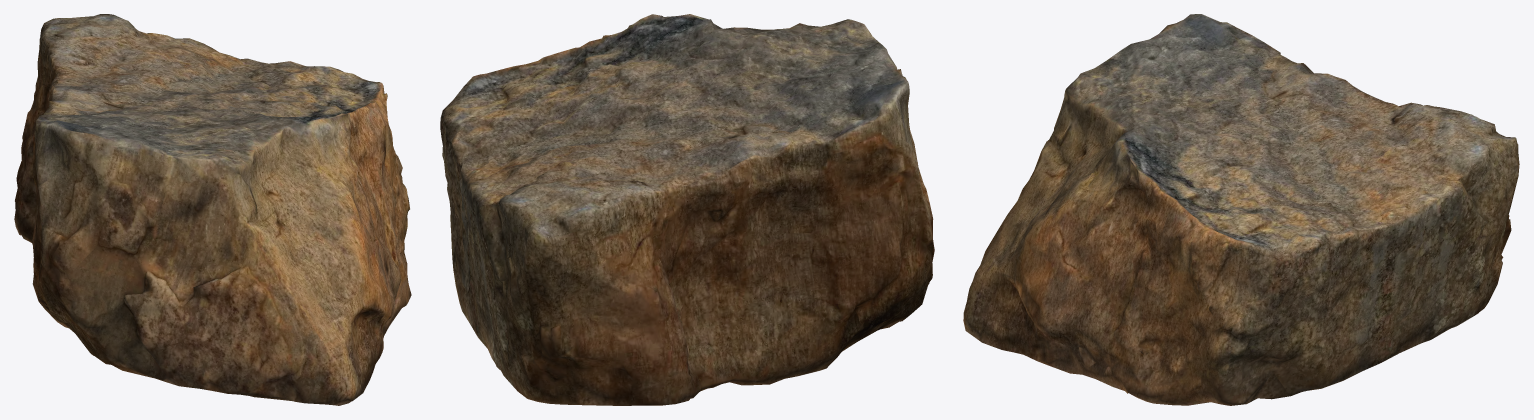
File: namaqualand_boulder_03.glb
3 views of the same model, side by side, from view 1: azimuth 30°, elevation 25°; view 2: azimuth 150°, elevation 25°; view 3: azimuth 270°, elevation 25° (orthographic). The views are drawn at different scales.
Visible parts, largest first — view 1: boulder_03_LOD0; view 2: boulder_03_LOD0; view 3: boulder_03_LOD0.
Boxes of the visible parts, <box> form: boulder_03_LOD0: <box>14,14,411,405</box>; boulder_03_LOD0: <box>440,14,934,405</box>; boulder_03_LOD0: <box>963,14,1519,405</box>.
Bounding box in the file's own units: 2.4 × 1.47 × 3.07.
Materials: 1 (1 with a texture image).
